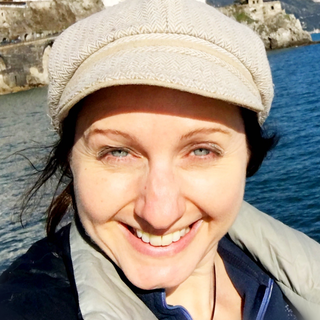eye: (178, 140, 226, 164), (93, 142, 142, 164)
